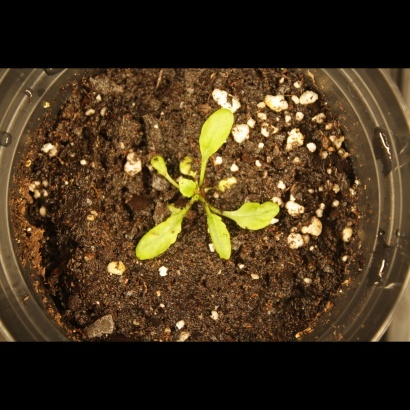leaf: (195, 97, 242, 176), (133, 204, 192, 265), (231, 194, 286, 235), (204, 210, 236, 265), (145, 148, 175, 183), (173, 174, 200, 200), (177, 152, 200, 175)
